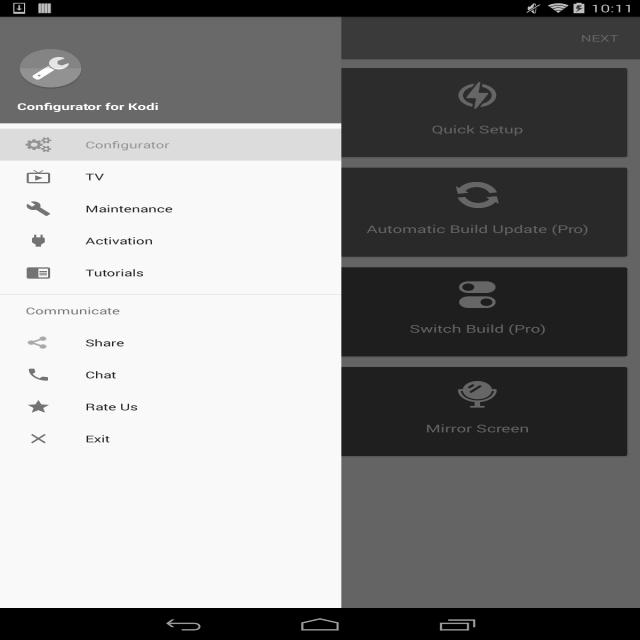CheckedTextView: (26, 192, 316, 225), (26, 358, 316, 391), (26, 128, 316, 160), (26, 160, 316, 192), (26, 224, 316, 256), (26, 256, 316, 288), (26, 326, 316, 358), (26, 390, 316, 422), (26, 422, 316, 454)
ImageButton: (9, 17, 68, 59)
ImageView: (17, 48, 84, 90), (141, 82, 184, 109), (456, 82, 499, 109), (141, 281, 184, 308), (456, 281, 499, 308), (141, 381, 184, 408), (456, 381, 499, 408), (141, 182, 184, 208), (456, 182, 499, 208)
TextView: (0, 294, 341, 326), (17, 89, 324, 113), (35, 115, 290, 143), (350, 115, 605, 143), (35, 215, 290, 243), (350, 215, 605, 243), (35, 414, 290, 442), (350, 414, 605, 442), (35, 315, 290, 342), (350, 315, 605, 342), (85, 29, 206, 47), (568, 22, 631, 54)
